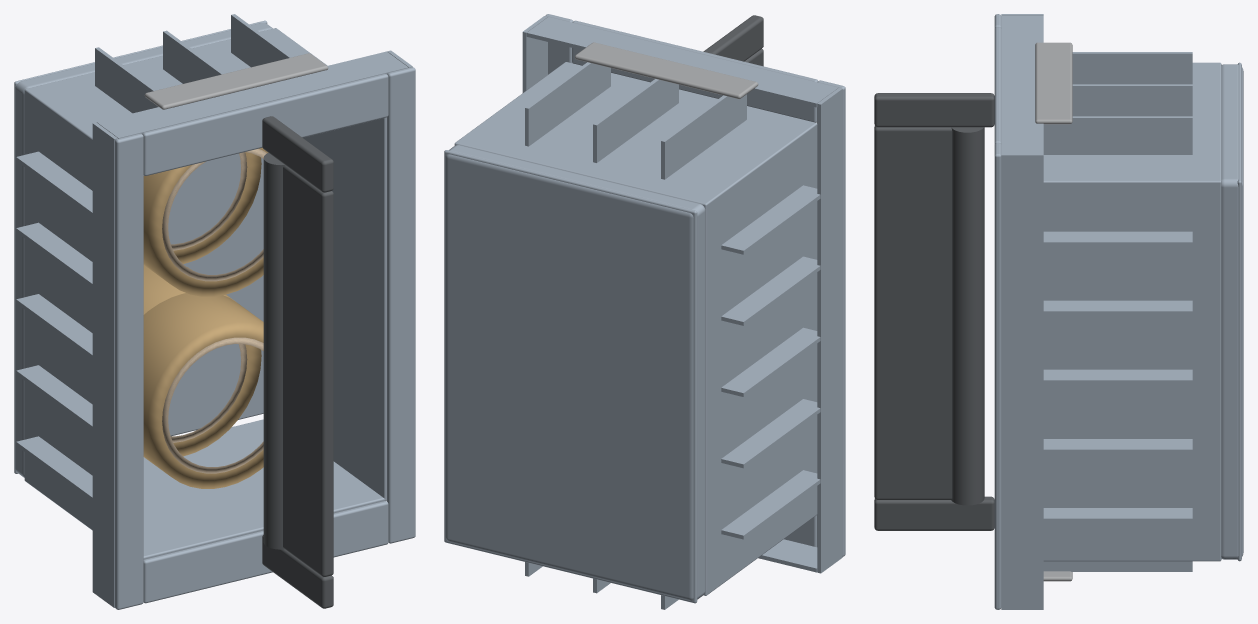
3 renders of one model, left to right at view 1: azimuth 30°, elevation 25°; view 2: azimuth 150°, elevation 25°; view 3: azimuth 270°, elevation 25°, orthographic. The views are drawn at different scales.
Parts seen in each view (by area): view 1: /World/Totes/R10/Visual/TotePolypropylene, /World/Totes/R10/Visual/ToteRail, /World/Totes/R10 (×2), /World/Totes/R10/Visual/PlasticGrey; view 2: /World/Totes/R10/Visual/TotePolypropylene, /World/Totes/R10/Visual/PlasticGrey, /World/Totes/R10/Visual/ToteRail; view 3: /World/Totes/R10/Visual/TotePolypropylene, /World/Totes/R10/Visual/ToteRail, /World/Totes/R10/Visual/PlasticGrey.
Boxes of the visible parts, left/top/right/bottom form: /World/Totes/R10/Visual/TotePolypropylene: left=14, top=14, right=415, bottom=609; /World/Totes/R10/Visual/ToteRail: left=262, top=116, right=333, bottom=608; /World/Totes/R10 (×2): left=143, top=147, right=268, bottom=488; /World/Totes/R10/Visual/PlasticGrey: left=144, top=53, right=328, bottom=109; /World/Totes/R10/Visual/TotePolypropylene: left=444, top=14, right=845, bottom=609; /World/Totes/R10/Visual/PlasticGrey: left=575, top=42, right=758, bottom=99; /World/Totes/R10/Visual/ToteRail: left=703, top=15, right=763, bottom=66; /World/Totes/R10/Visual/TotePolypropylene: left=994, top=14, right=1243, bottom=609; /World/Totes/R10/Visual/ToteRail: left=874, top=93, right=994, bottom=530; /World/Totes/R10/Visual/PlasticGrey: left=1035, top=42, right=1072, bottom=581.
Size of the model in its own units: 0.198 by 0.301 by 0.218.
Materials: 6 (2 with a texture image).
